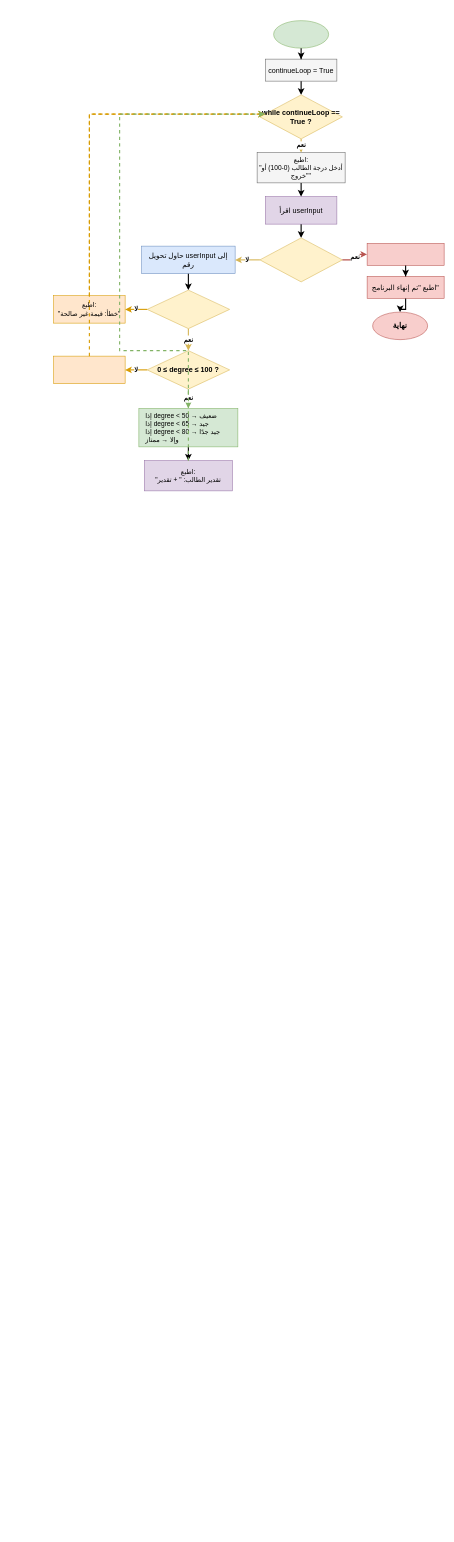
Image size: 454x1542. Some labels were removed from this diagram. The centre of each missing label's shape, as x and y in pixels:
continueLoop = False: pixel 405 254
userInput == "خروج" ?: pixel 300 259
اطبع: "خطأ: درجة خارج النطاق": pixel 89 370
بداية: pixel 301 34
هل التحويل ناجح؟: pixel 188 309
